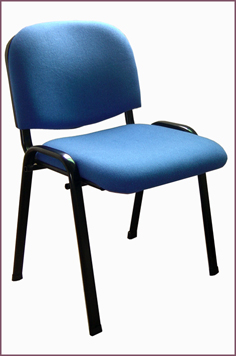chairs: (6, 19, 229, 337)
